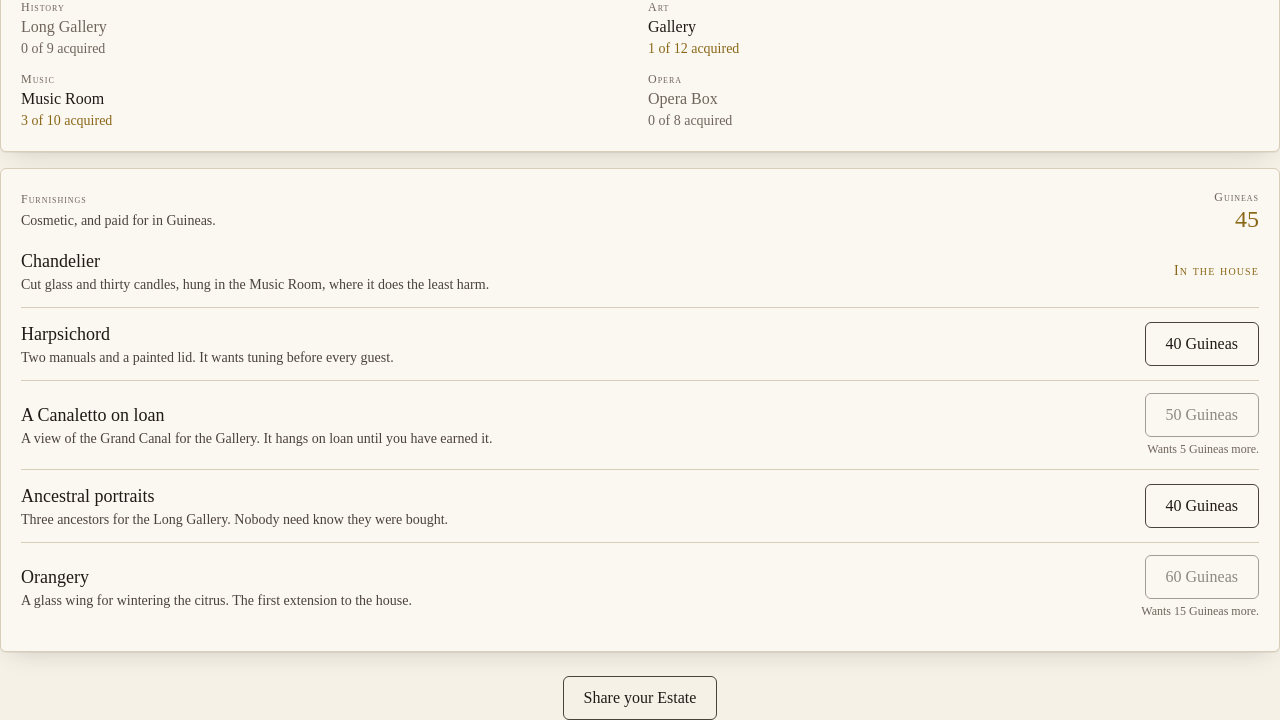
Test: EstateScreen › shares a PNG file through the Web Share API when it can
The image size is (1280, 720).
(page scrolled)
Click the button with test id "share-estate" at point(640, 698), box [563,676,718,719]
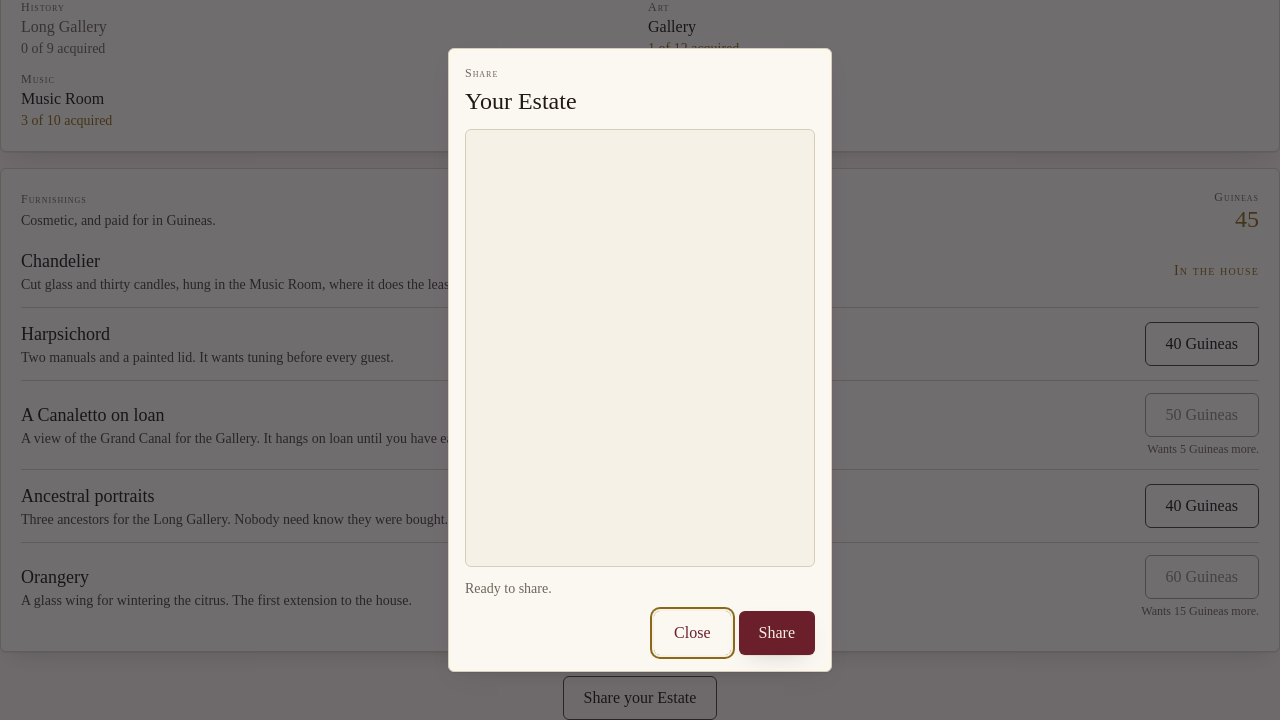
Click the button with test id "share-native" at point(777, 633), box [739,611,815,655]
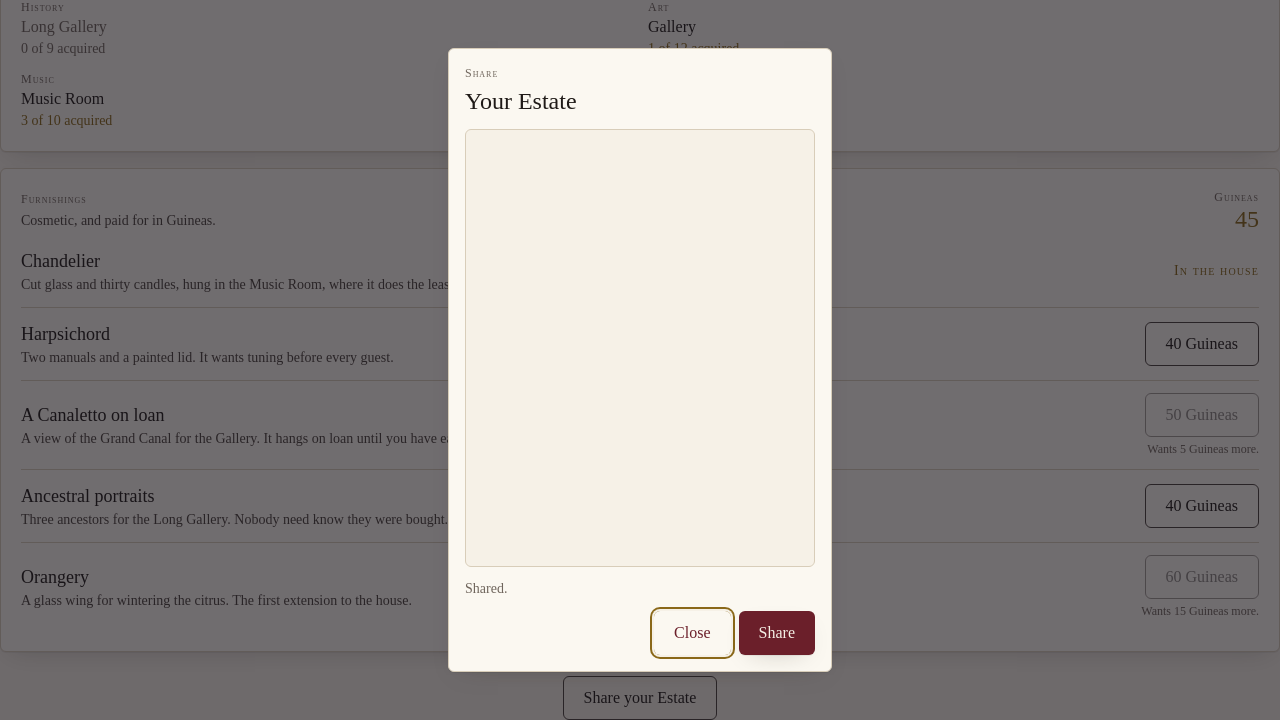
Expected: the text with test id "share-status" reads "Shared.", [465,581,507,596]
